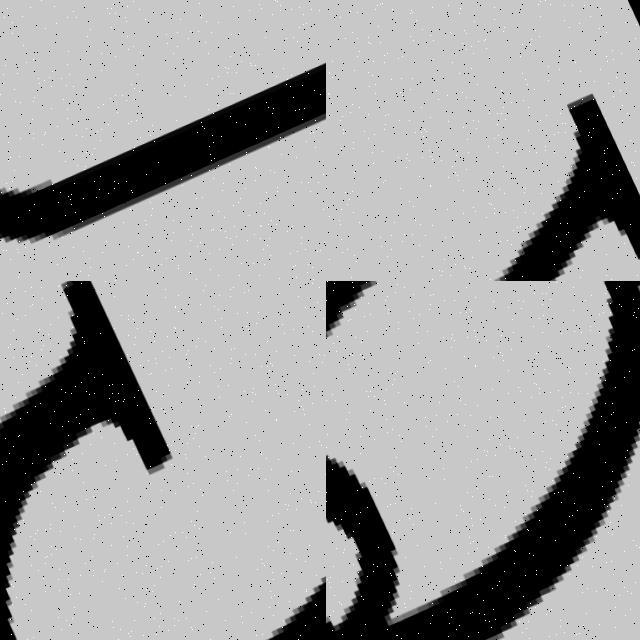G: (0, 281, 326, 640)
K: (326, 59, 640, 281)
Q: (326, 281, 640, 640)
U: (0, 0, 326, 281)
